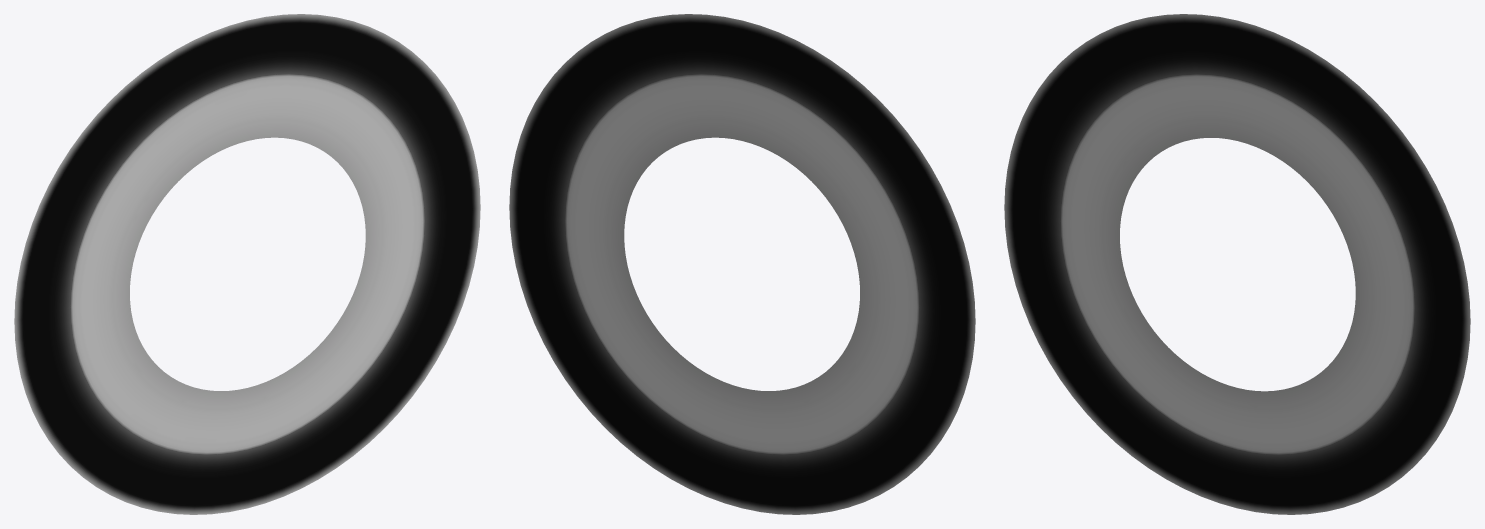
The model's file is pref_fxui_fullscore_01.fbx.
3 renders of one model, left to right at view 1: azimuth 30°, elevation 25°; view 2: azimuth 150°, elevation 25°; view 3: azimuth 330°, elevation 25°, orthographic.
Parts seen in each view (by area): view 1: GameObject; view 2: GameObject; view 3: GameObject.
Part boxes in pixels (<box>): GameObject: <box>14,14,480,514</box>; GameObject: <box>509,14,975,514</box>; GameObject: <box>1004,14,1470,514</box>.
Size of the model in its own units: 118 by 118 by 1.52e-05.
